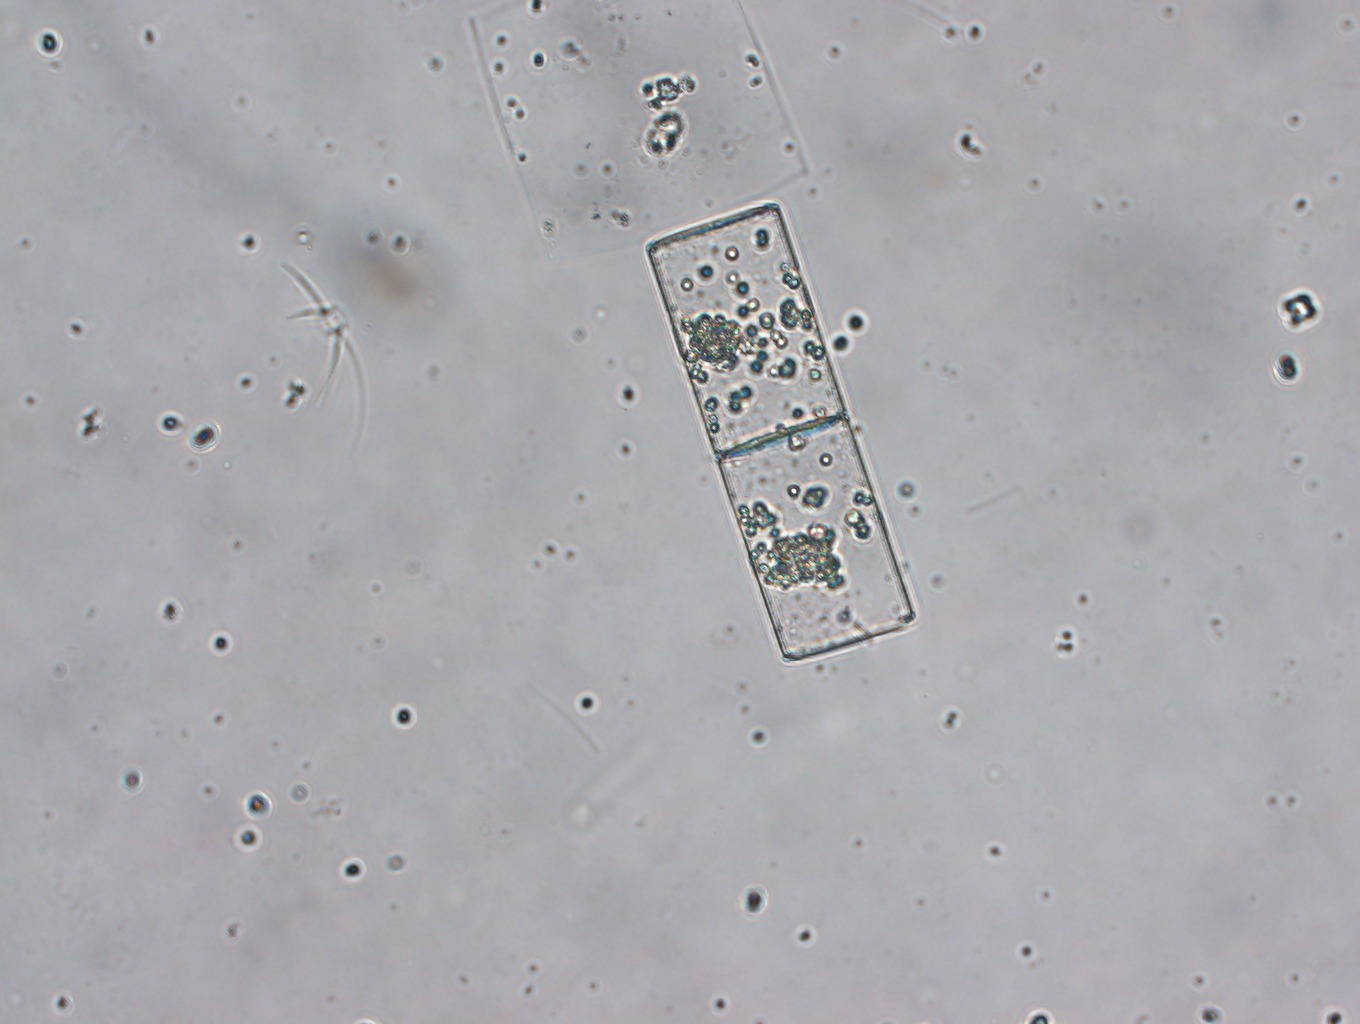chaetoceros: (278, 264, 364, 439)
guinardia flaccida: (643, 201, 915, 664), (466, 1, 810, 253)
